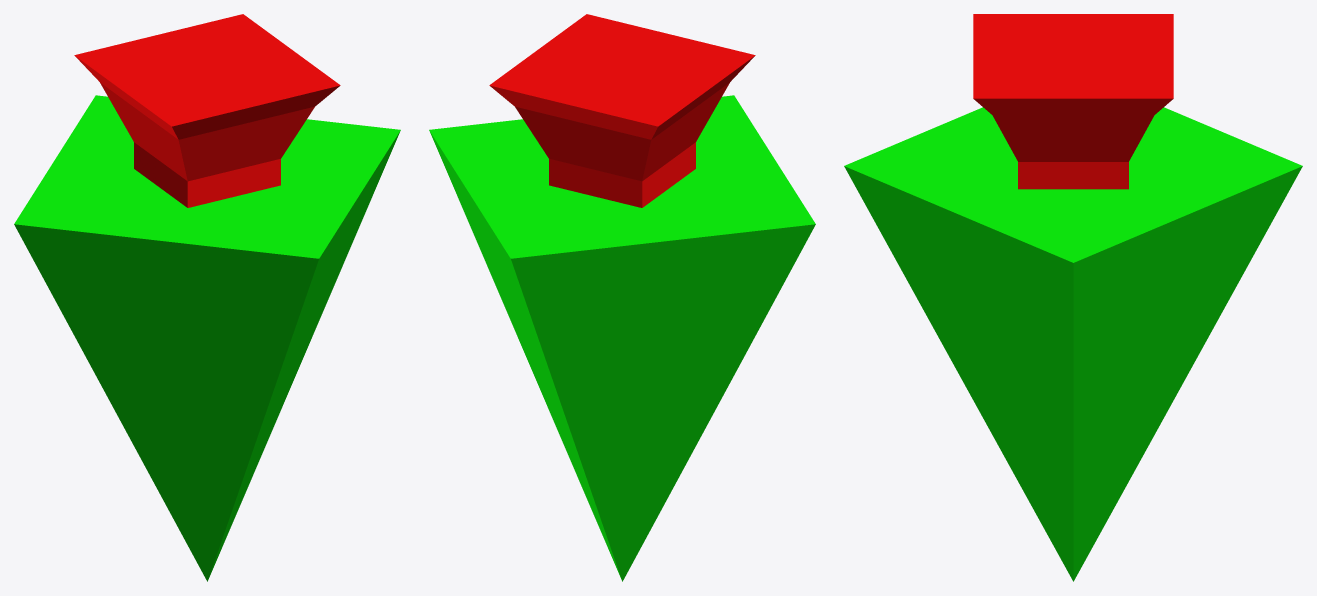
The model's file is fir.obj.
The picture shows the model from 3 angles, left to right: view 1: azimuth 30°, elevation 25°; view 2: azimuth 150°, elevation 25°; view 3: azimuth 270°, elevation 25°; orthographic projection. The views are drawn at different scales.
Parts seen in each view (by area): view 1: Cone, Cube; view 2: Cone, Cube; view 3: Cone, Cube.
Part boxes in pixels (box(x1,y1,x2,y2)): Cone: box(14, 95, 400, 581); Cube: box(74, 14, 340, 207); Cone: box(429, 95, 815, 581); Cube: box(489, 14, 755, 207); Cone: box(844, 107, 1302, 581); Cube: box(973, 14, 1173, 189).
Size of the model in its own units: 22.89 by 28.93 by 22.89.
